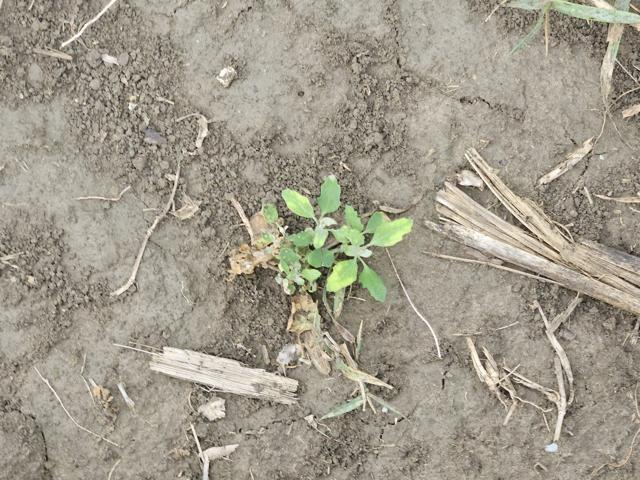bad weed: (208, 169, 417, 331)
